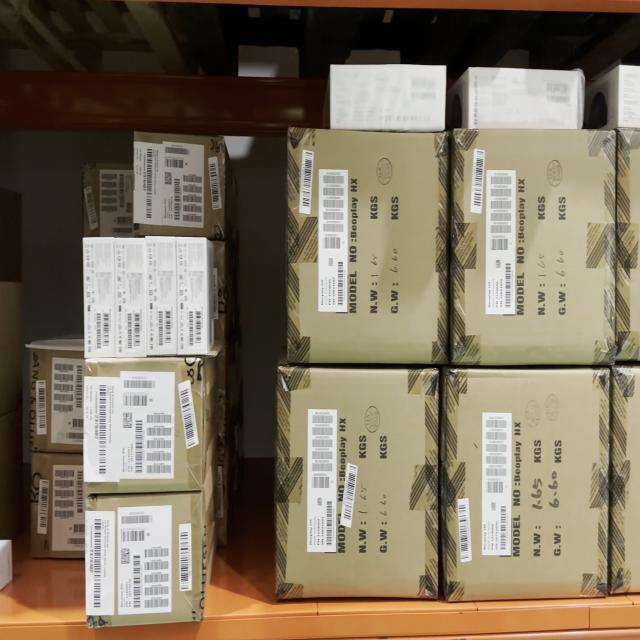box: (279, 371, 437, 602), (291, 133, 447, 366), (455, 133, 611, 366), (450, 374, 608, 597), (85, 362, 198, 492), (86, 498, 198, 628), (83, 239, 116, 361), (117, 240, 146, 357), (148, 240, 176, 353), (178, 238, 204, 349)
